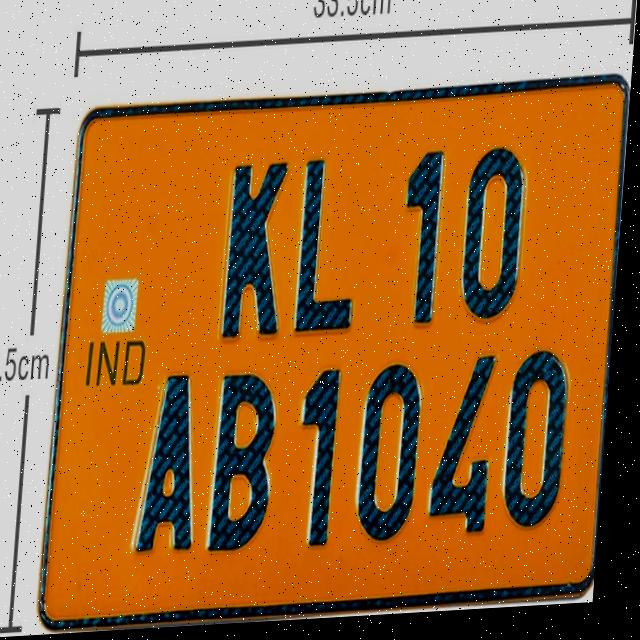plate: (45, 79, 633, 631)
